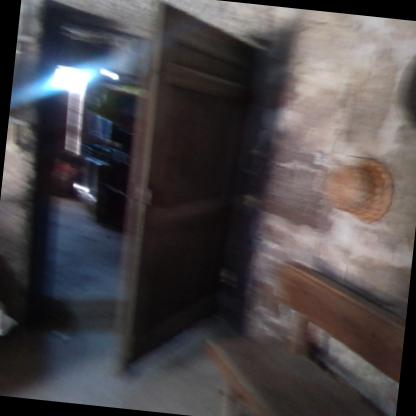open: (0, 0, 276, 402)
